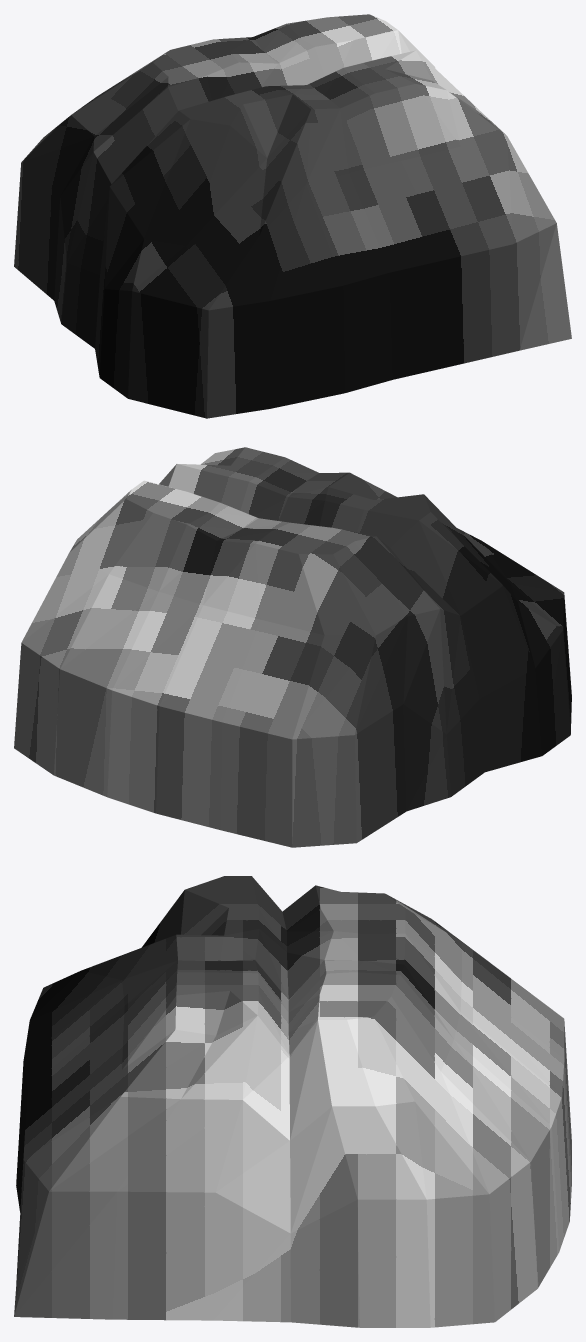
File: rock_341x04.gltf
3 renders of one model, top to bottom at view 1: azimuth 30°, elevation 25°; view 2: azimuth 150°, elevation 25°; view 3: azimuth 270°, elevation 25°, orthographic. The views are drawn at different scales.
Parts seen in each view (by area): view 1: Rock_341x4; view 2: Rock_341x4; view 3: Rock_341x4.
Part boxes in pixels (<box>): Rock_341x4: <box>14,14,571,418</box>; Rock_341x4: <box>14,447,571,847</box>; Rock_341x4: <box>14,876,571,1327</box>.
Size of the model in its own units: 1.17 by 0.6159 by 1.15.
1 material, 1 textured.
